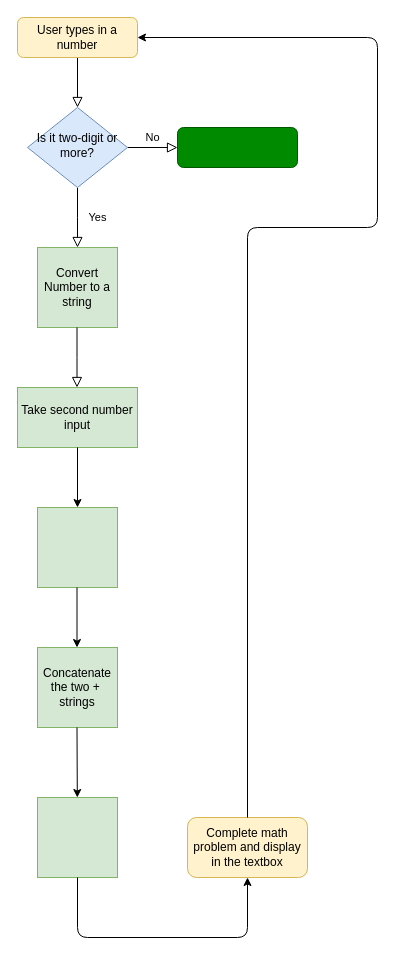
Some shapes in this 403 by 963 pixel diagram are drawn without their labels. Here are the shapes that lost their labels. From the top down, the centre of each, then its label:
(237,147): Calculator Works
(77,547): If a operator is pressed...
(77,837): Convert to number and store in array
